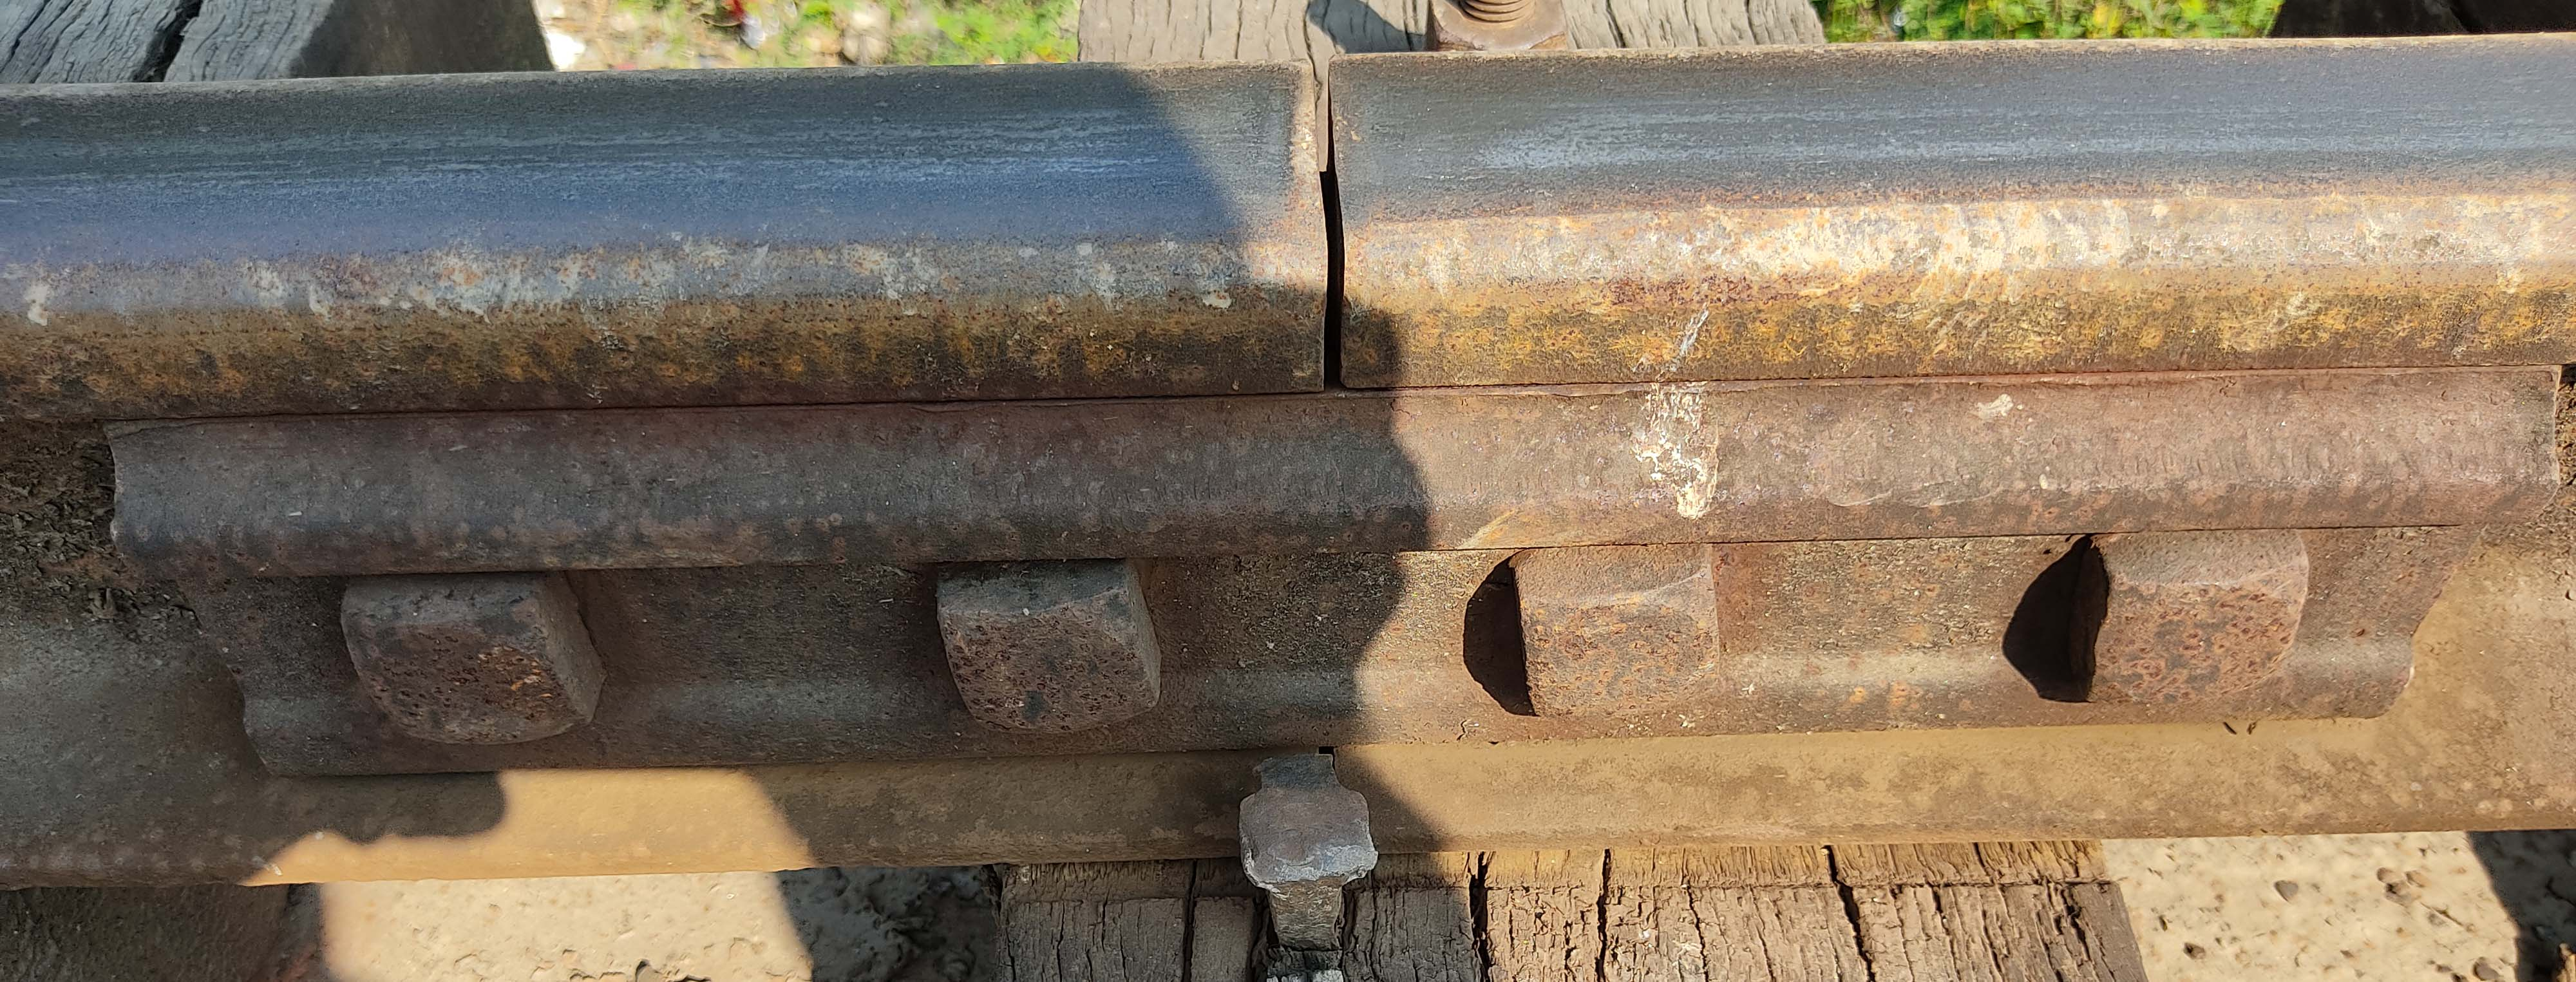error2: (1260, 30, 1401, 406)
